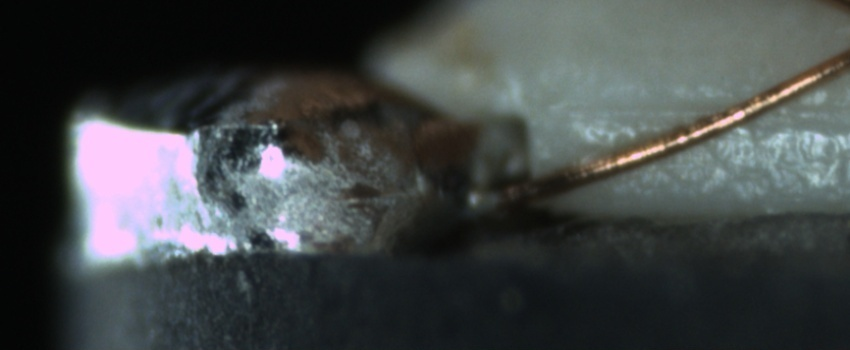DL: (584, 78, 836, 144)
